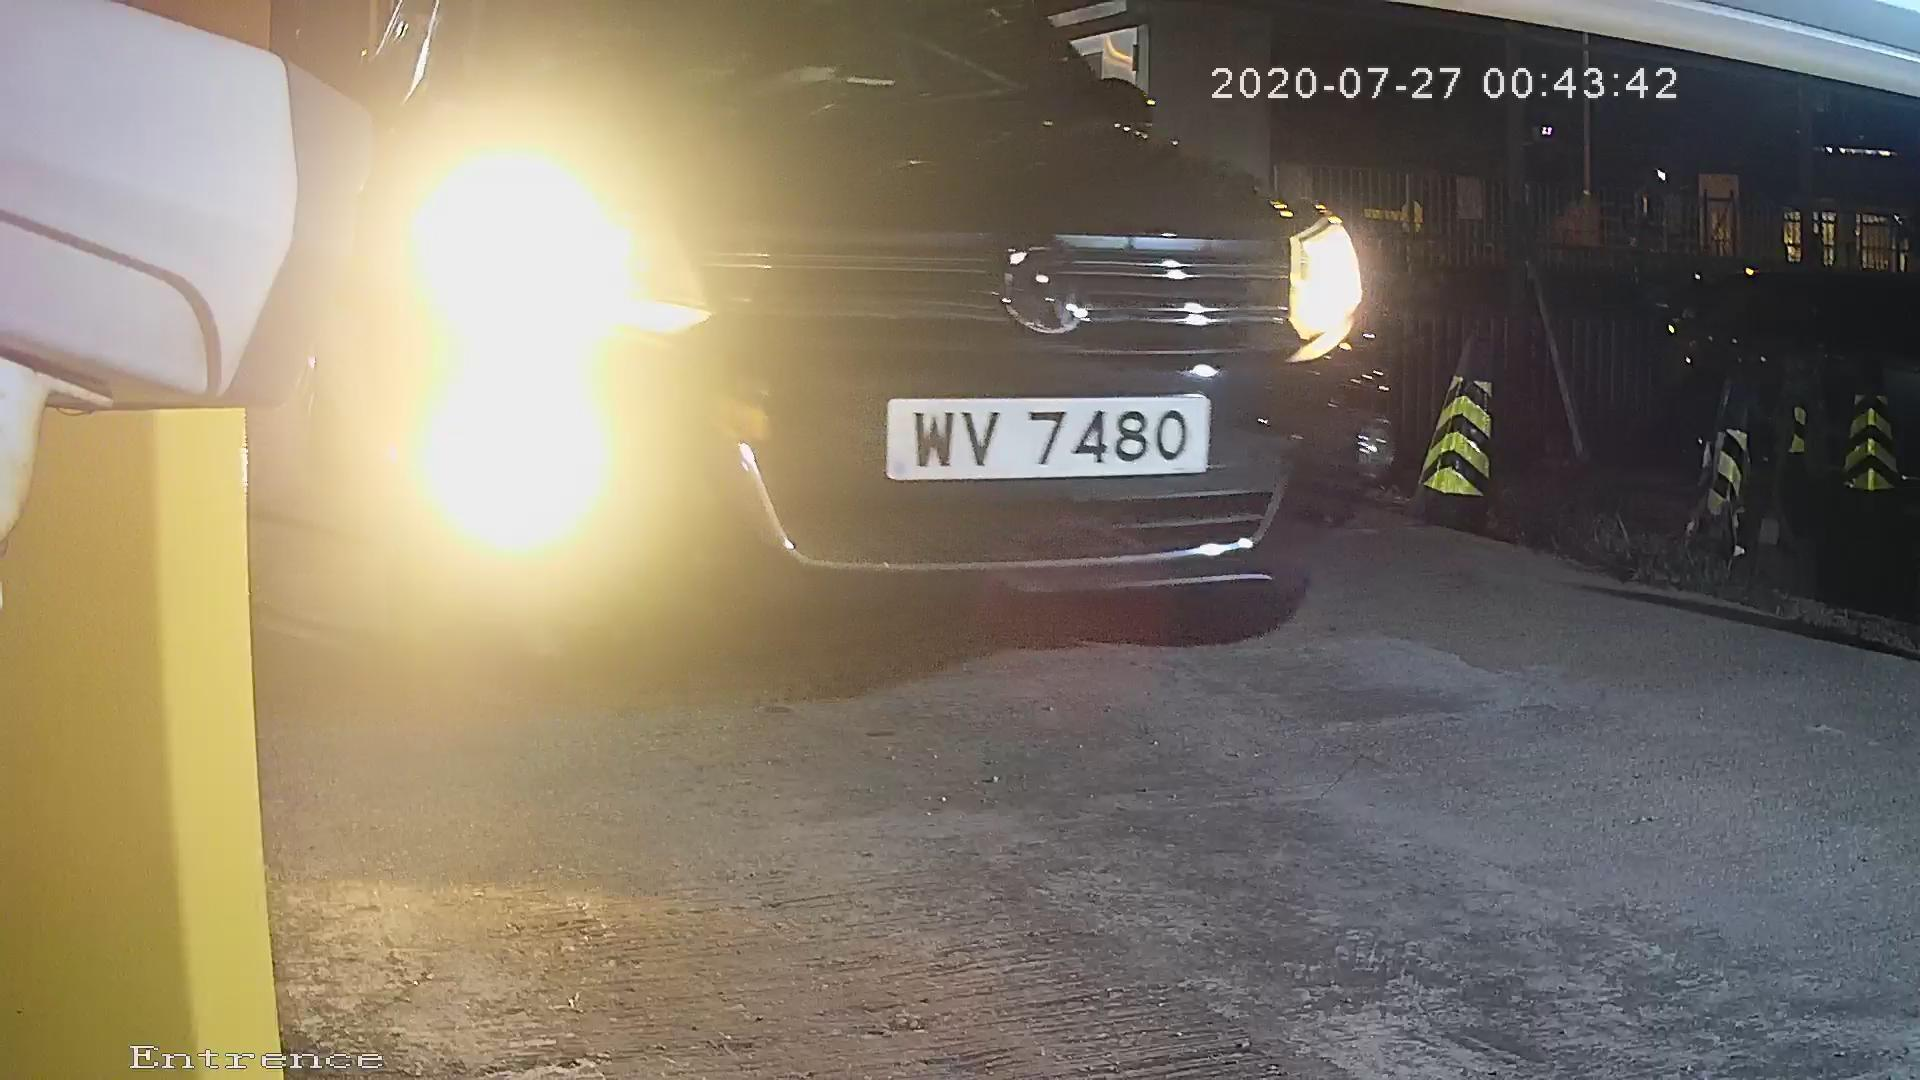License Plate: (806, 377, 1243, 492)
